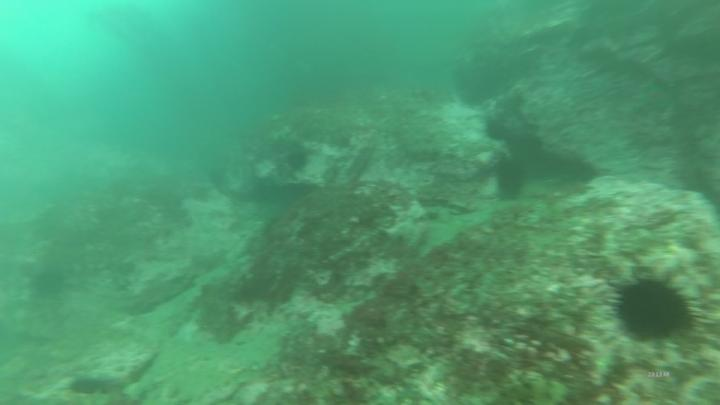echinus: (612, 276, 699, 344), (495, 156, 529, 205), (486, 114, 510, 144)
